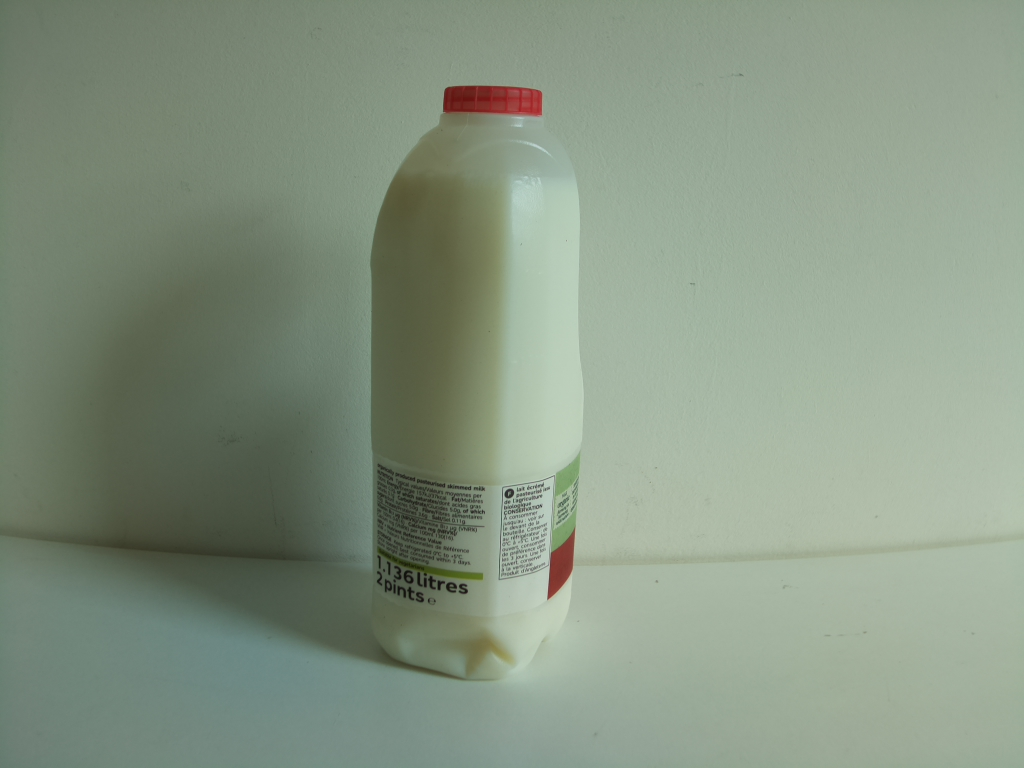milk: (366, 82, 587, 680)
